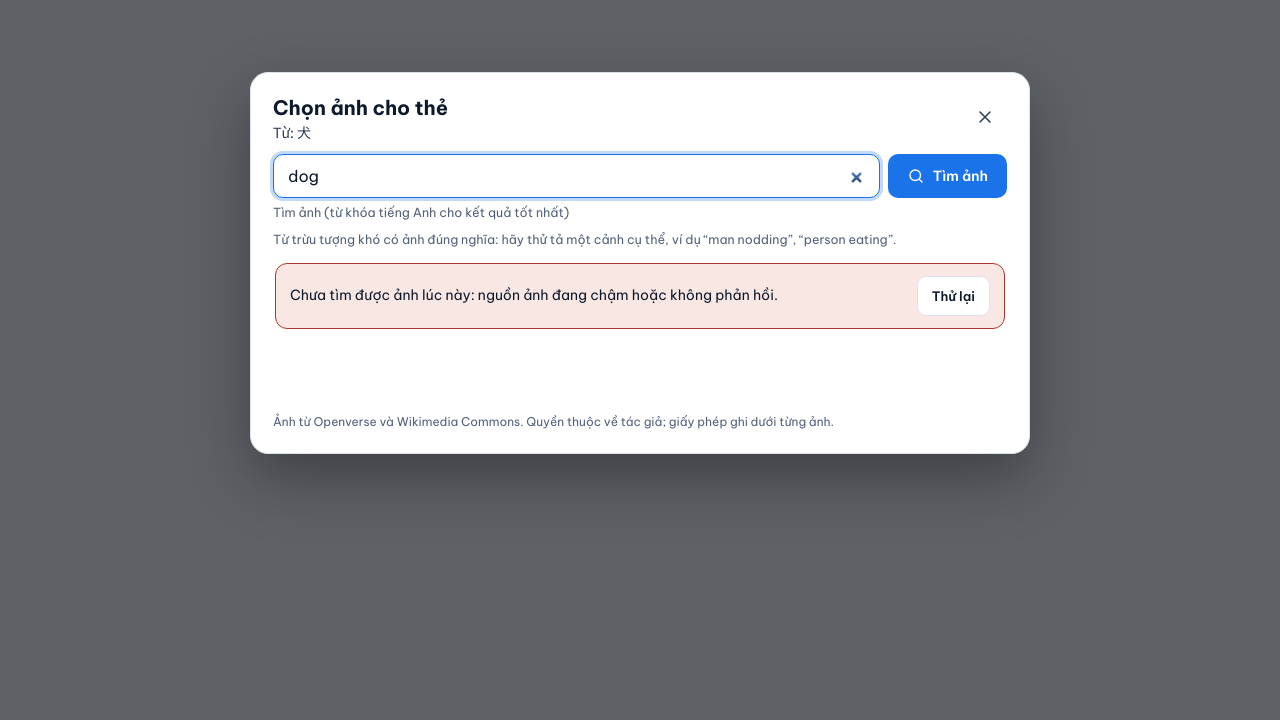
Scenario: ImagePicker › says when the sources do not answer, and tries again on request
The width and height of the screenshot is (1280, 720).
Expected: the message shows "nguồn ảnh đang chậm", [290,286,778,304]
Click the button "Thử lại".
click(953, 296)  # box [917,276,990,316]
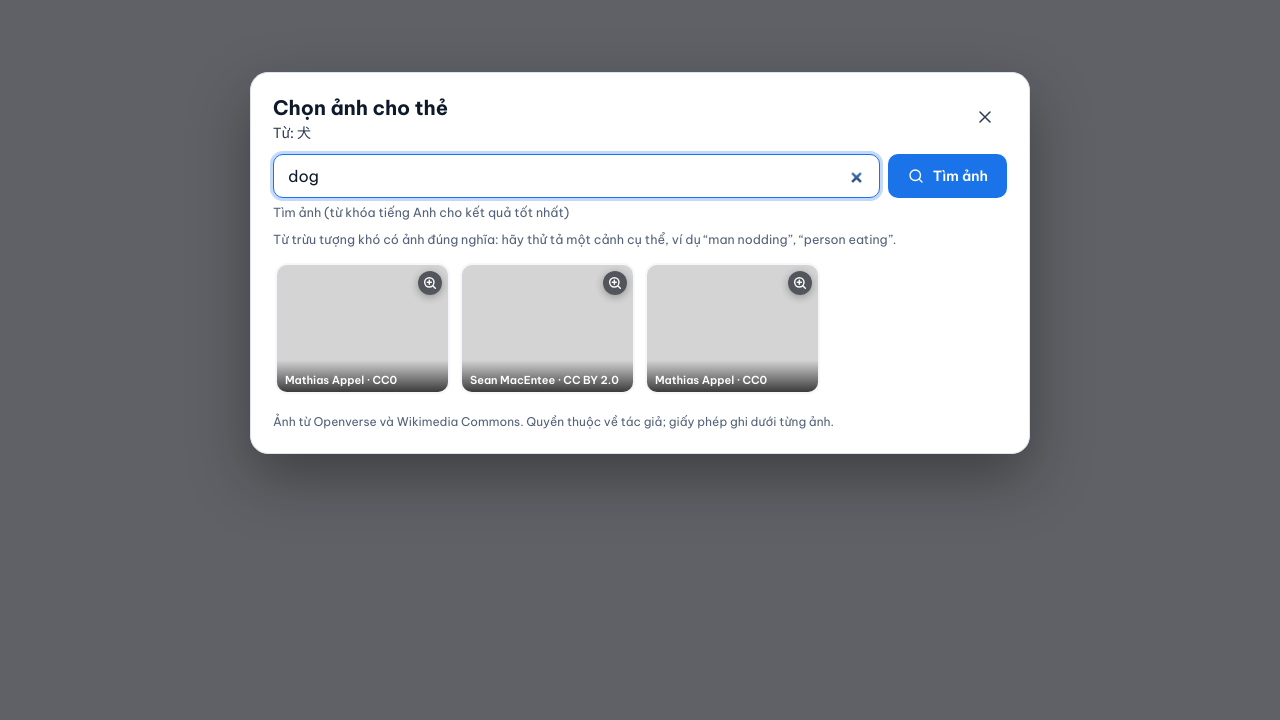
Result: the message "Chưa tìm được ảnh lúc này: nguồn ảnh đang chậm hoặc không phản hồi. Thử lại" is gone
